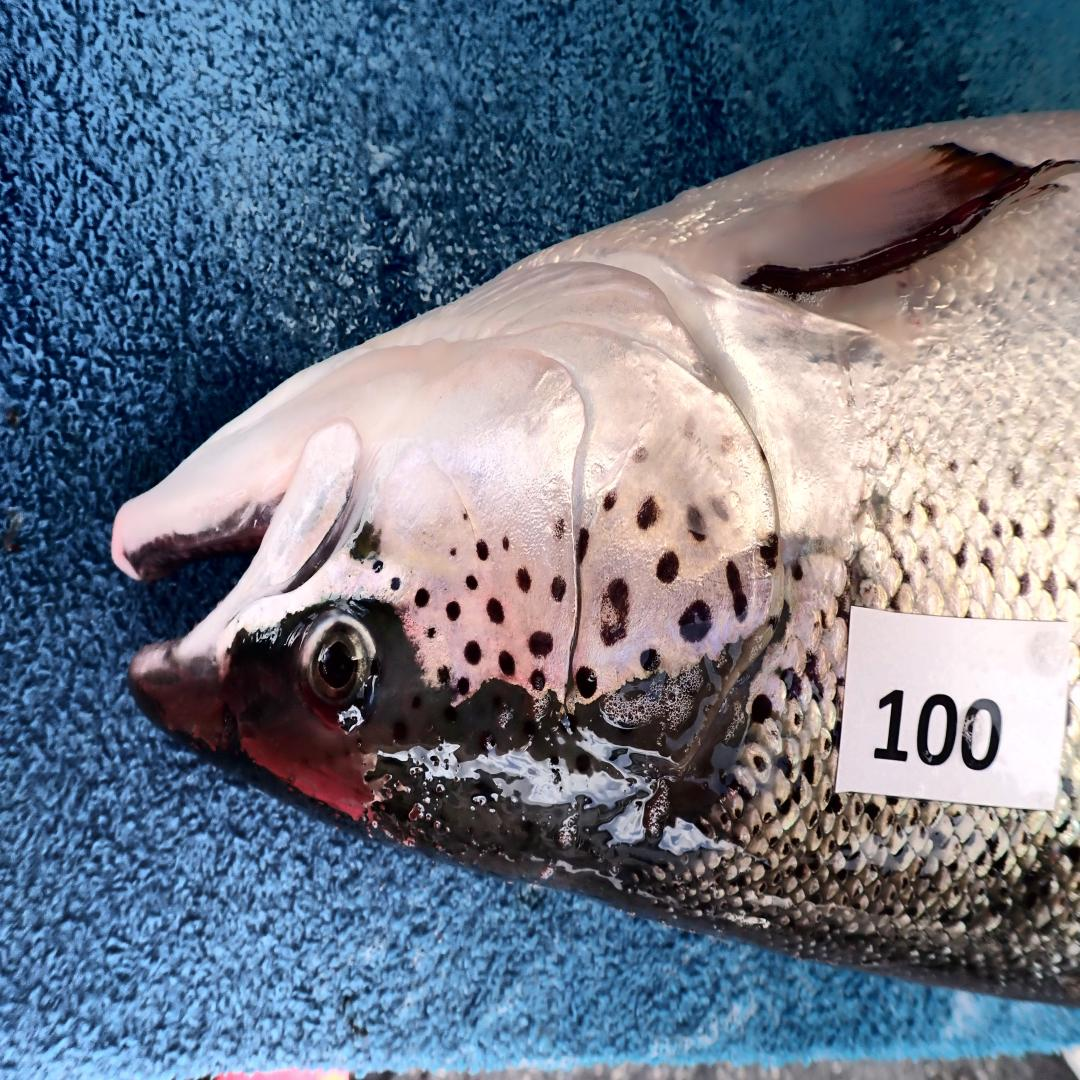spot: (599, 579, 629, 647), (679, 599, 711, 644), (726, 560, 749, 622), (686, 506, 707, 543), (527, 630, 553, 658), (656, 551, 679, 582), (637, 498, 658, 529), (576, 667, 597, 698), (759, 534, 778, 568), (681, 411, 698, 442), (639, 650, 660, 672), (498, 650, 515, 675), (487, 599, 504, 624), (711, 498, 730, 520), (529, 669, 546, 692), (464, 641, 481, 664), (578, 529, 589, 562), (551, 577, 565, 602), (517, 568, 532, 591), (603, 489, 618, 512), (445, 602, 460, 622), (721, 436, 736, 456), (416, 588, 430, 608), (633, 447, 648, 464), (477, 540, 489, 560), (466, 574, 479, 591), (371, 557, 384, 574), (555, 518, 565, 540), (458, 678, 470, 695), (437, 667, 449, 683), (390, 577, 401, 591), (426, 627, 437, 638), (502, 537, 510, 551), (449, 548, 458, 557), (462, 509, 468, 520)
